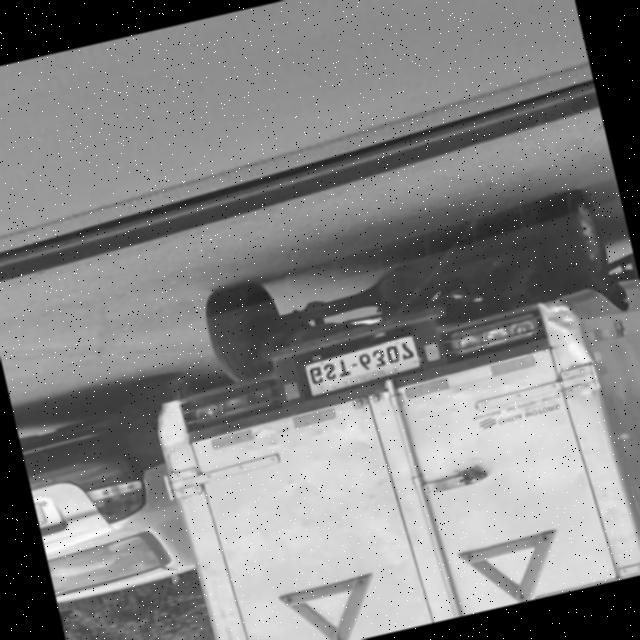Placa: (306, 338, 418, 395)
